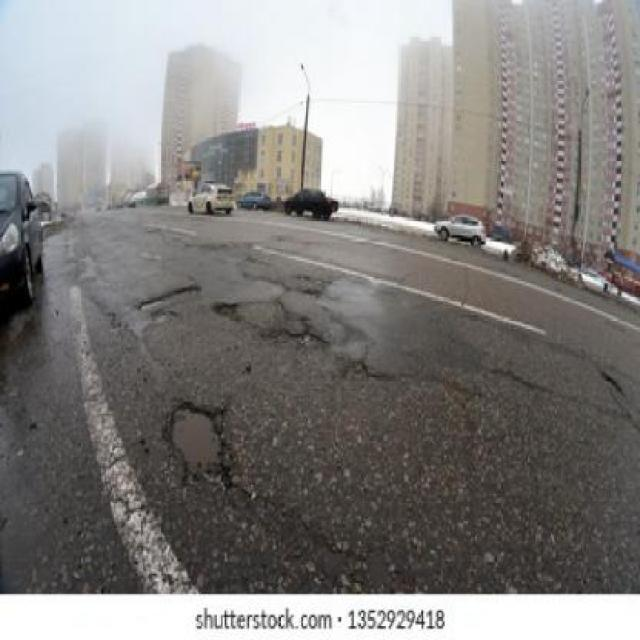pothole: (155, 373, 254, 496)
